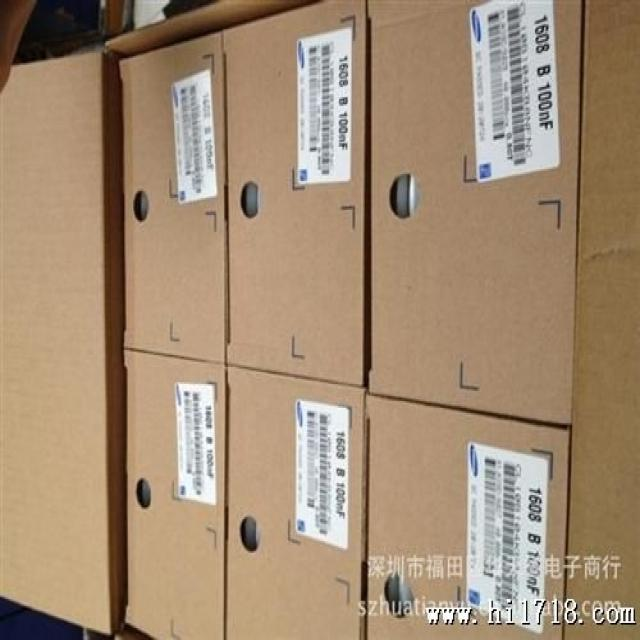box: (0, 3, 639, 638), (366, 3, 584, 425), (224, 1, 367, 389), (365, 391, 569, 635), (225, 364, 368, 638), (119, 31, 226, 363), (121, 347, 228, 638), (2, 1, 30, 78), (97, 3, 136, 41)
